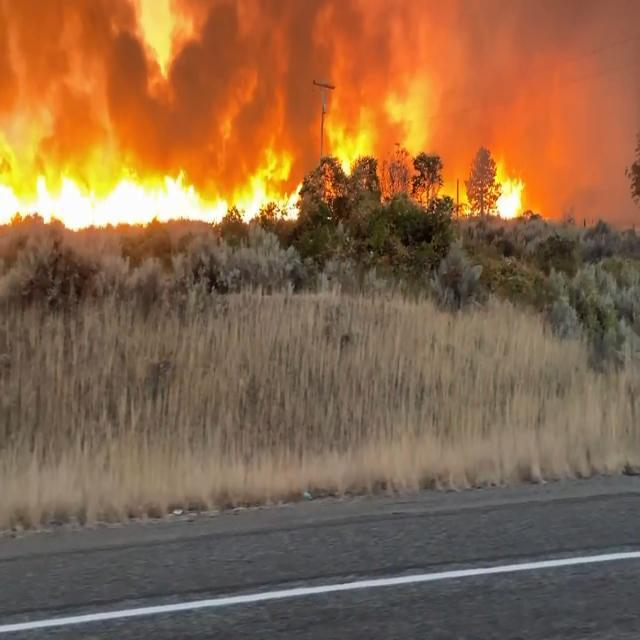Fire: (0, 0, 523, 228)
